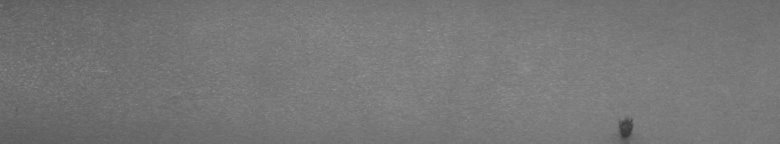fi: (612, 111, 639, 136)
